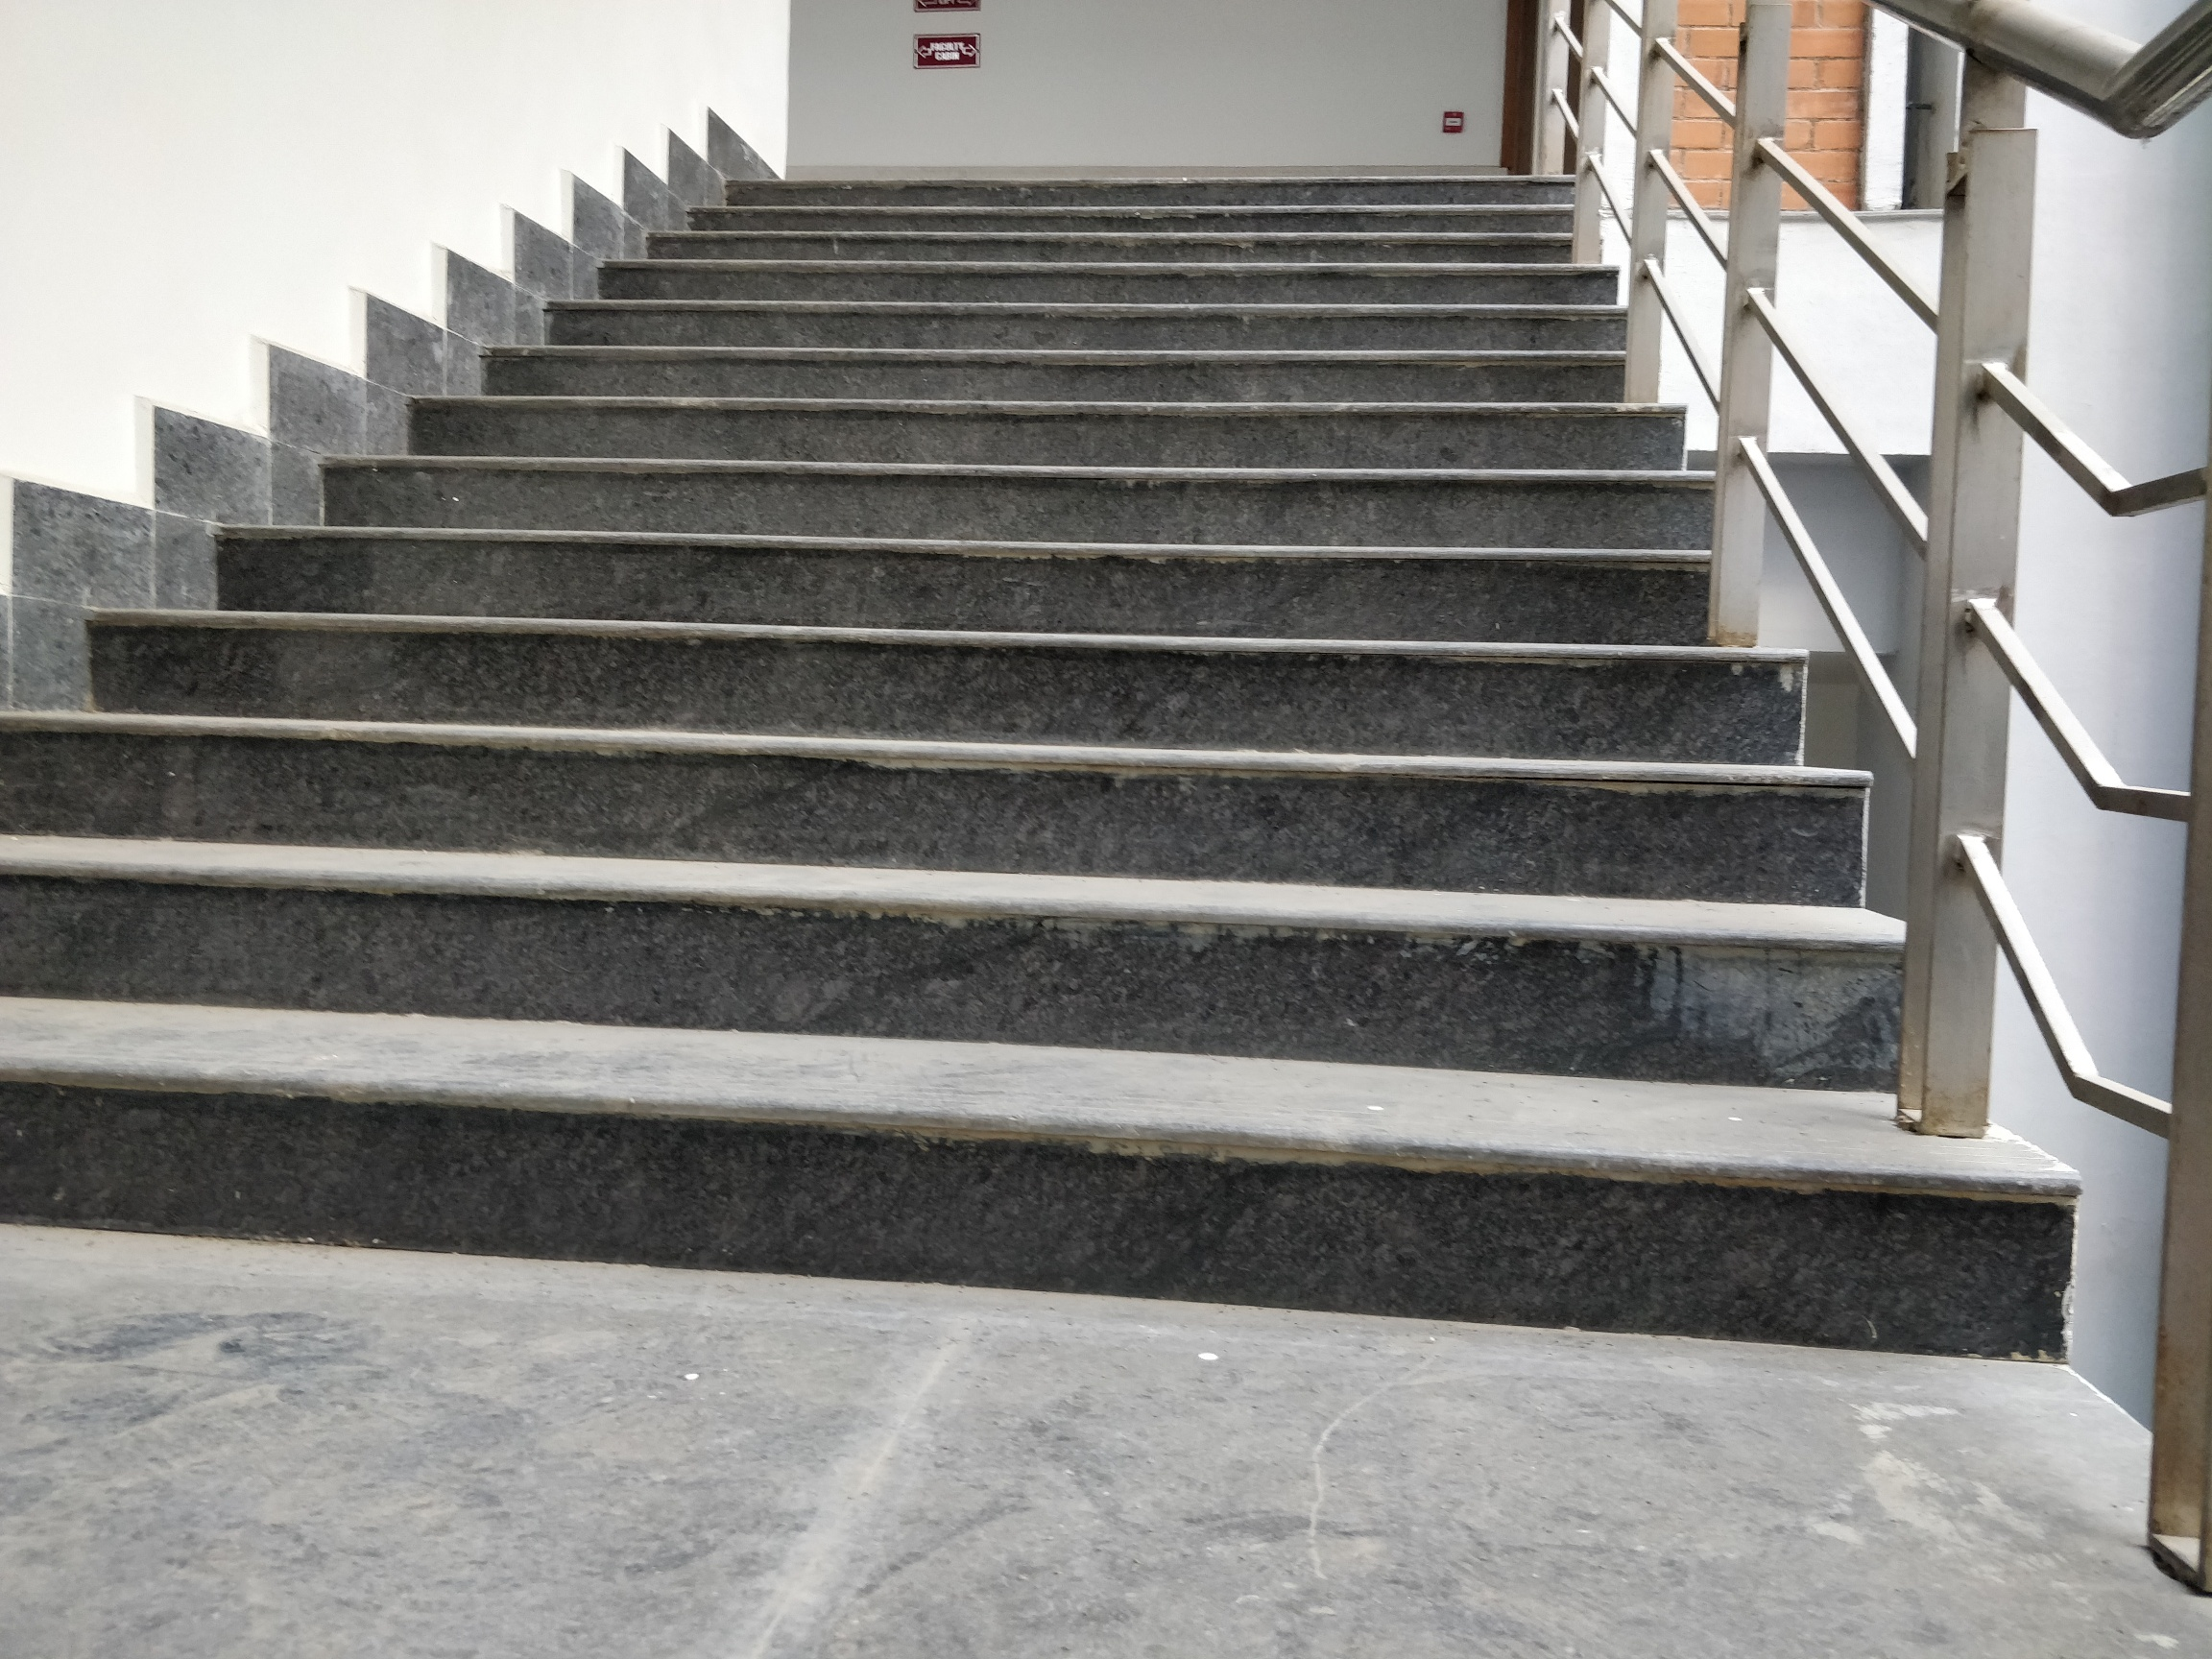stairs_up: (101, 173, 1616, 1267)
